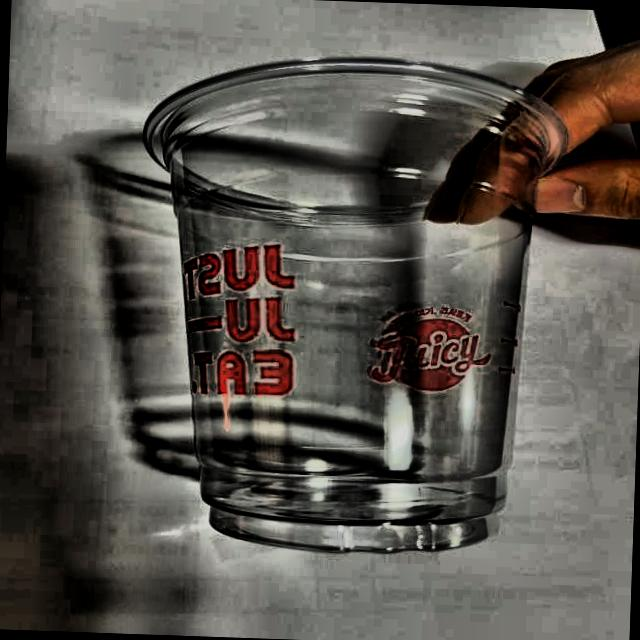plastic cup: (122, 44, 568, 562)
